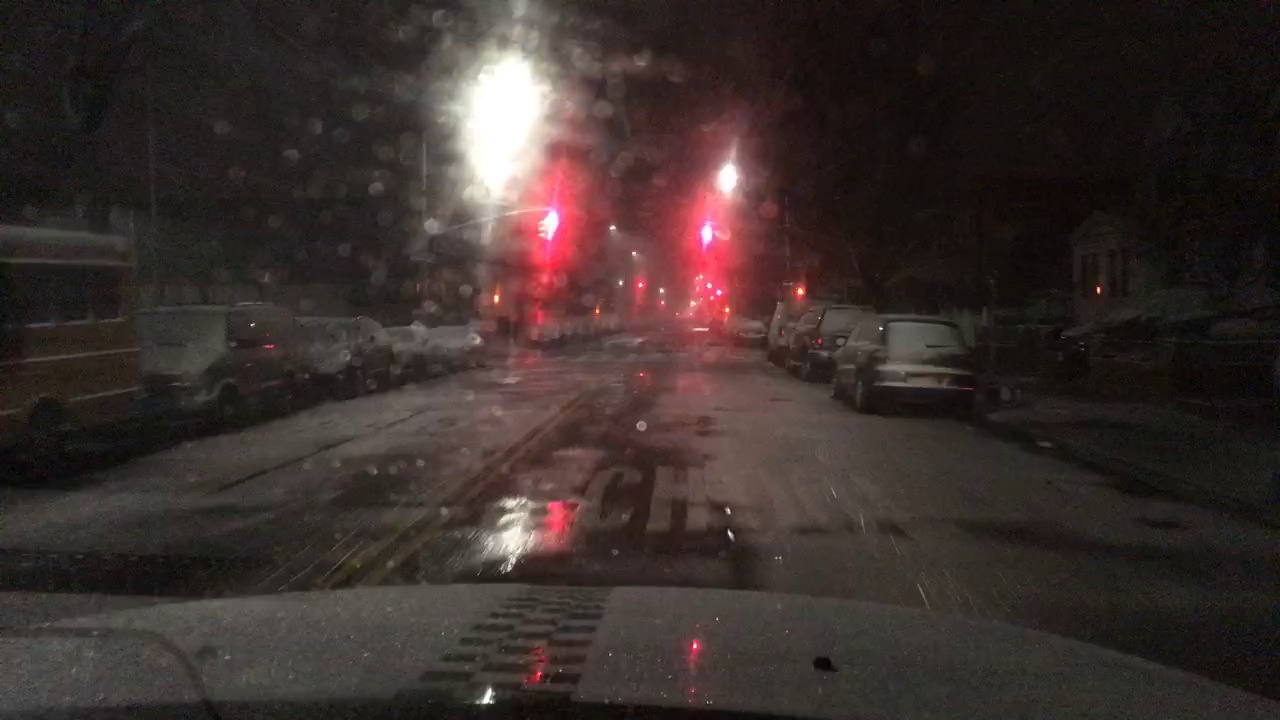car: (141, 297, 299, 428), (833, 315, 976, 417), (298, 314, 397, 395), (789, 306, 871, 382), (735, 320, 769, 347)
traffic light: (696, 220, 724, 264)
